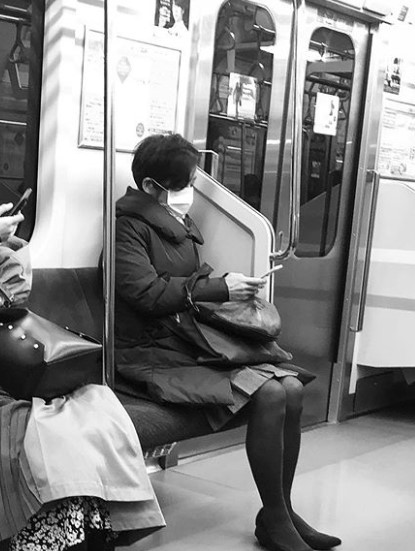face_with_mask: (131, 132, 199, 224)
